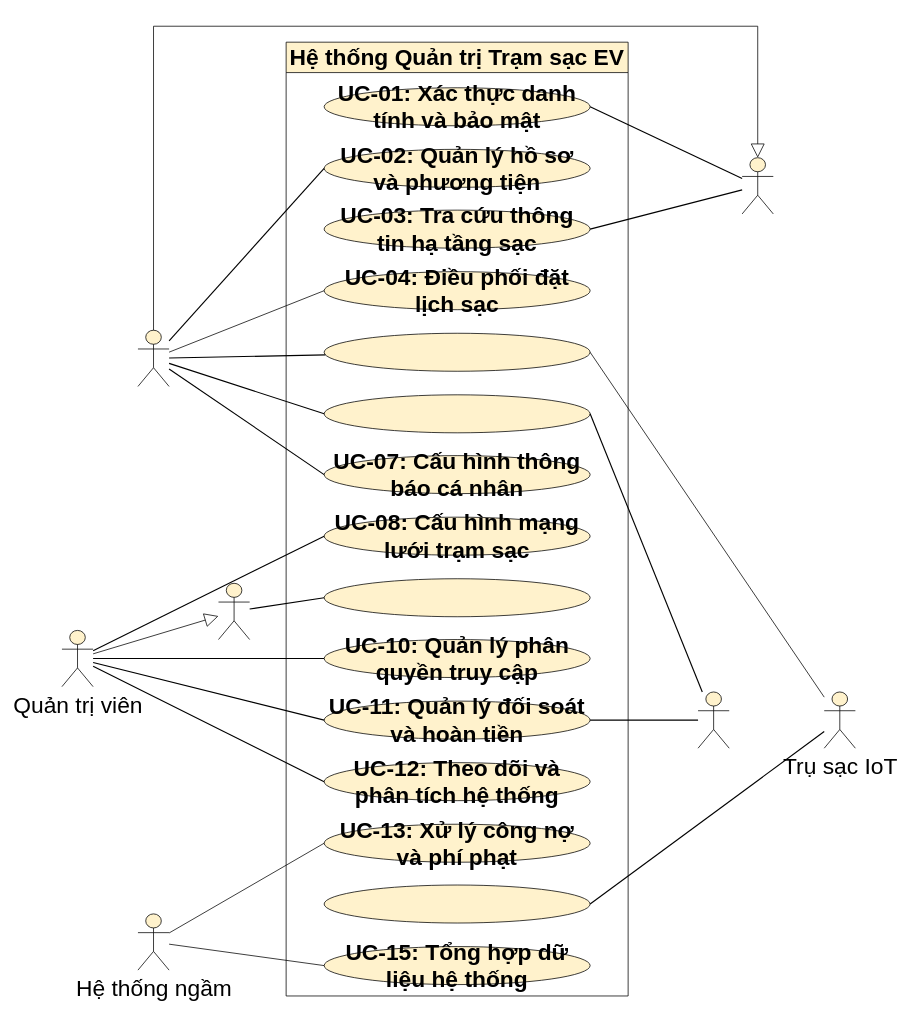
This 910x1016 diagram has some shape labels left out. The shapes that lost their labels are listed below. From the top down, each one's centre as x and y in pixels, then its label:
At (757,185): "Khách".
At (153,357): "Người dùng".
At (456,351): "UC-05: Quản lý điều khiển phiên sạc".
At (456,413): "UC-06: Quản lý ví điện tử và giao dịch".
At (234,611): "Nhân viên vận hành".
At (456,597): "UC-09: Quản lý sự cố và vận hành".
At (713,719): "Cổng thanh toán".
At (456,903): "UC-14: Giao tiếp thiết bị và viễn trắc".
